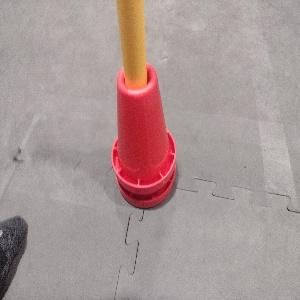Red_2: (110, 63, 176, 208)
